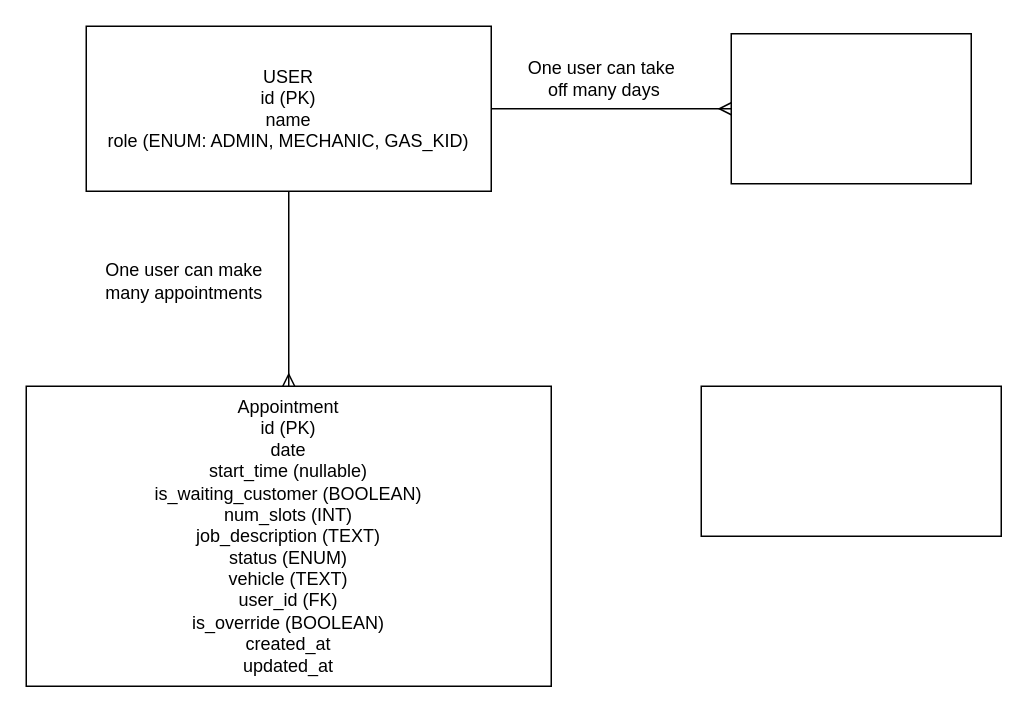
Image size: 1028x713. Some labels were removed from this diagram. Each missing label, with the box of its shape:
MechanicSchedule id (PK) user_id (FK → User.id) date (DATE) is_off (BOOLEAN): (730, 32, 971, 184)
ShopClosure id (PK) date (DATE) reason (TEXT) is_recurring (BOOLEAN): (700, 385, 1001, 536)
